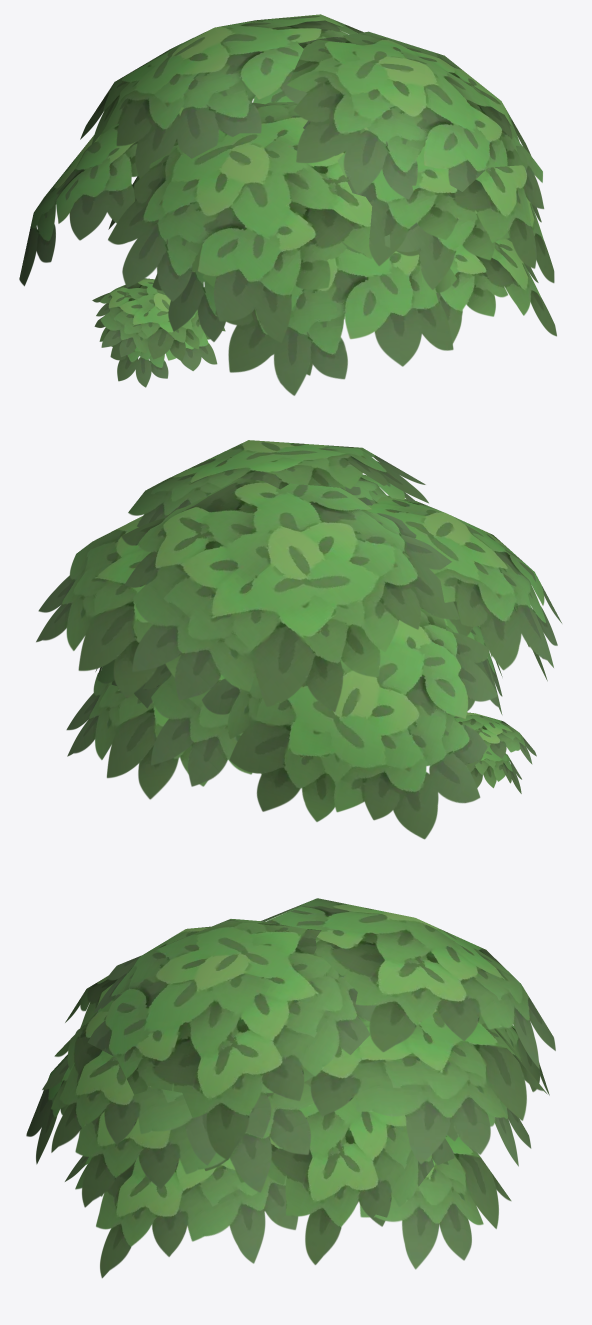
Rendered from bush.glb.
3 renders of one model, top to bottom at view 1: azimuth 30°, elevation 25°; view 2: azimuth 150°, elevation 25°; view 3: azimuth 270°, elevation 25°, orthographic. The views are drawn at different scales.
Visible parts, largest first — view 1: Bush_Large; view 2: Bush_Large; view 3: Bush_Large.
Boxes of the visible parts, box(x1,y1,x2,y2) form: Bush_Large: box(19, 14, 556, 395); Bush_Large: box(36, 440, 561, 839); Bush_Large: box(26, 898, 555, 1278).
Bounding box in the file's own units: 2.07 × 1.19 × 2.07.
Materials: 1 (1 with a texture image).
